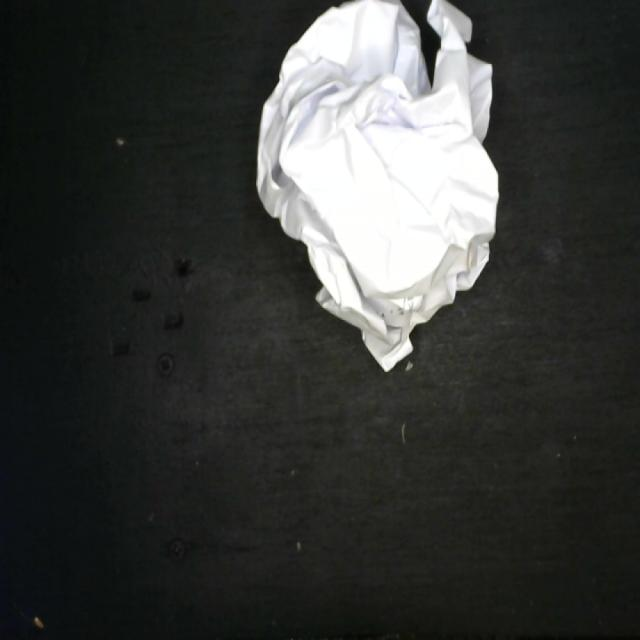biodegradable: (251, 0, 502, 379)
